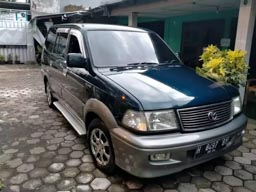plat: (195, 136, 232, 157)
